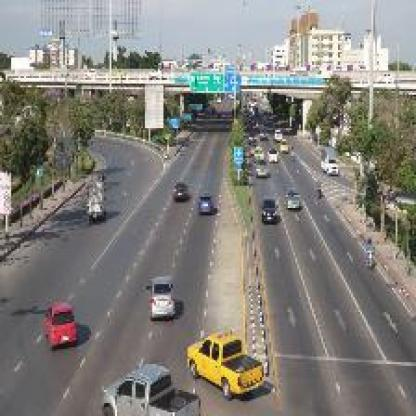other: (172, 332, 272, 397), (36, 294, 82, 350)
